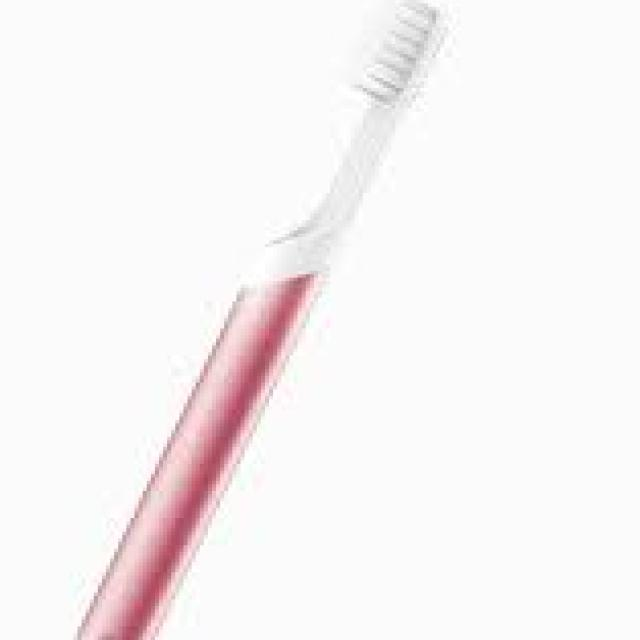organic: (33, 15, 484, 628)
